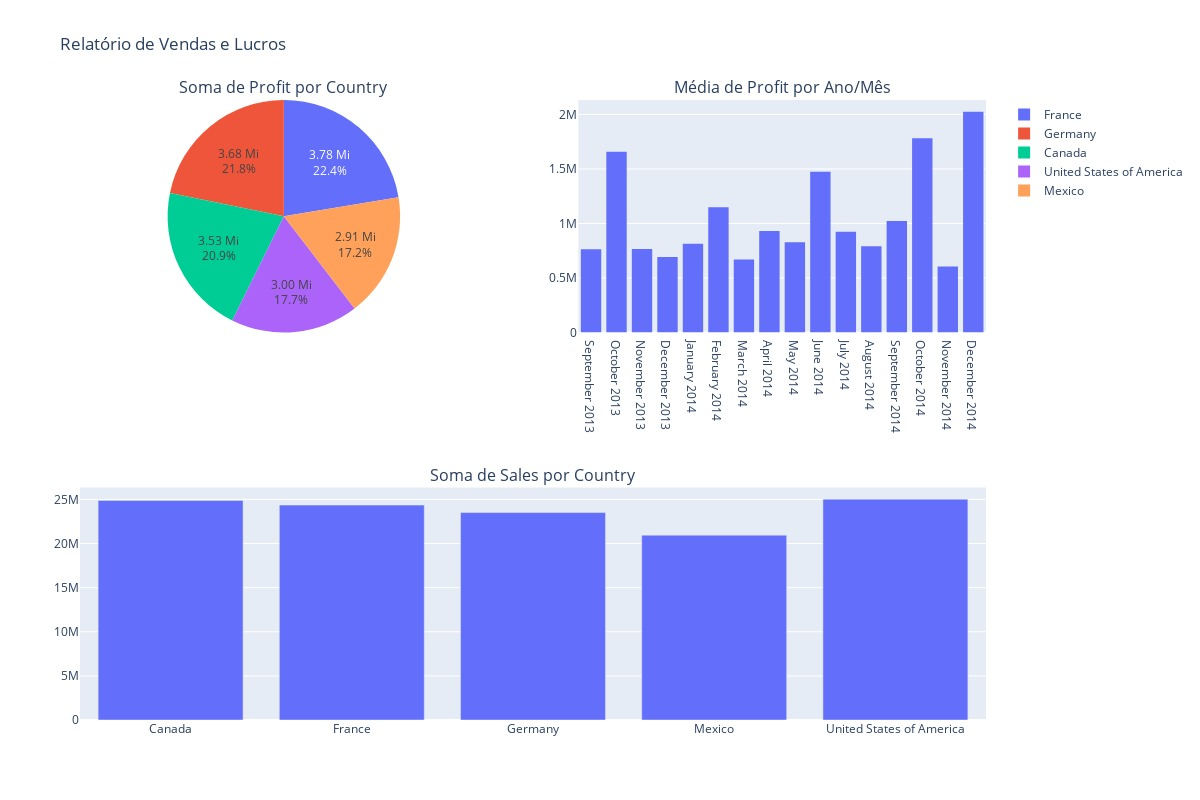

The page's visual inventory and layout, read from the dashboard file:
{"tool":"powerbi","page":{"name":"Página 2","canvas":[1280,720],"ordinal":1},"visuals":[{"type":"textbox","box":[10.7,180,671.9,137.2],"z":0,"group":"g1"},{"type":"clusteredColumnChart","fields":{"Y":["Avg(financials.Profit)"],"Category":["financials.Date.Variation.Hierarquia de datas.Ano","financials.Date.Variation.Hierarquia de datas.Mês"]},"box":[0,333.8,671.1,386.2],"z":0},{"type":"textbox","box":[0,0,1280,80],"z":1000,"group":"g1"},{"type":"clusteredColumnChart","fields":{"Y":["Avg(financials.Profit)"],"Category":["financials.Date.Variation.Hierarquia de datas.Ano","financials.Date.Variation.Hierarquia de datas.Mês"]},"box":[16,336,672,384],"z":1000},{"type":"card","fields":{"Values":["Sum(financials.Sales)"]},"box":[0,208,336,128],"z":2000,"group":"g1"},{"type":"clusteredColumnChart","fields":{"Y":["Avg(financials.Profit)"],"Category":["financials.Date.Variation.Hierarquia de datas.Ano","financials.Date.Variation.Hierarquia de datas.Mês"]},"box":[10,333.8,671.1,386.2],"z":2000},{"type":"card","fields":{"Values":["Sum(financials.Units Sold)"]},"box":[352,208,320,128],"z":3000,"group":"g1"},{"type":"clusteredColumnChart","fields":{"Y":["Avg(financials.Profit)"],"Category":["financials.Date.Variation.Hierarquia de datas.Ano","financials.Date.Variation.Hierarquia de datas.Mês"]},"box":[20,333.8,671.1,386.2],"z":3000},{"type":"group","id":"g1","title":"Grupo 1","box":[0,0,1280,720],"z":4000},{"type":"pieChart","title":"Lucro por País","fields":{"Category":["financials.Country"],"Y":["Sum(financials.Profit)"]},"box":[672,80,608,296],"z":4000,"group":"g1"},{"type":"actionButton","box":[24,16,96,40],"z":4001},{"type":"clusteredColumnChart","title":"Média de Lucro por Ano e Mês","fields":{"Y":["Avg(financials.Profit)"],"Category":["financials.Date.Variation.Hierarquia de datas.Ano","financials.Date.Variation.Hierarquia de datas.Mês"]},"box":[0,333.8,671.1,386.2],"z":5000,"group":"g1"},{"type":"clusteredColumnChart","title":"Vendas por País","fields":{"Category":["financials.Country"],"Y":["Sum(financials.Sales)"]},"box":[672,376,608,344],"z":6000,"group":"g1"},{"type":"card","fields":{"Values":["financials.Vendas Pais_Selecionado"]},"box":[0,80,672,144],"z":7000,"group":"g1"}]}

Visuals, with their boxes on the page's 1280x720 design canvas (x1, y1, x2, y2). These are canvas units, not pixel positions in the 1200x800 screenshot, which may show the page scaled, cropped or inside an application window:
textbox: bbox=[11, 180, 683, 317]
clusteredColumnChart - Avg(financials.Profit) x financials.Date.Variation.Hierarquia de datas.Ano: bbox=[0, 334, 671, 720]
textbox: bbox=[0, 0, 1280, 80]
clusteredColumnChart - Avg(financials.Profit) x financials.Date.Variation.Hierarquia de datas.Ano: bbox=[16, 336, 688, 720]
card - Sum(financials.Sales): bbox=[0, 208, 336, 336]
clusteredColumnChart - Avg(financials.Profit) x financials.Date.Variation.Hierarquia de datas.Ano: bbox=[10, 334, 681, 720]
card - Sum(financials.Units Sold): bbox=[352, 208, 672, 336]
clusteredColumnChart - Avg(financials.Profit) x financials.Date.Variation.Hierarquia de datas.Ano: bbox=[20, 334, 691, 720]
"Grupo 1" group: bbox=[0, 0, 1280, 720]
"Lucro por País" pieChart: bbox=[672, 80, 1280, 376]
actionButton: bbox=[24, 16, 120, 56]
"Média de Lucro por Ano e Mês" clusteredColumnChart: bbox=[0, 334, 671, 720]
"Vendas por País" clusteredColumnChart: bbox=[672, 376, 1280, 720]
card - financials.Vendas Pais_Selecionado: bbox=[0, 80, 672, 224]
